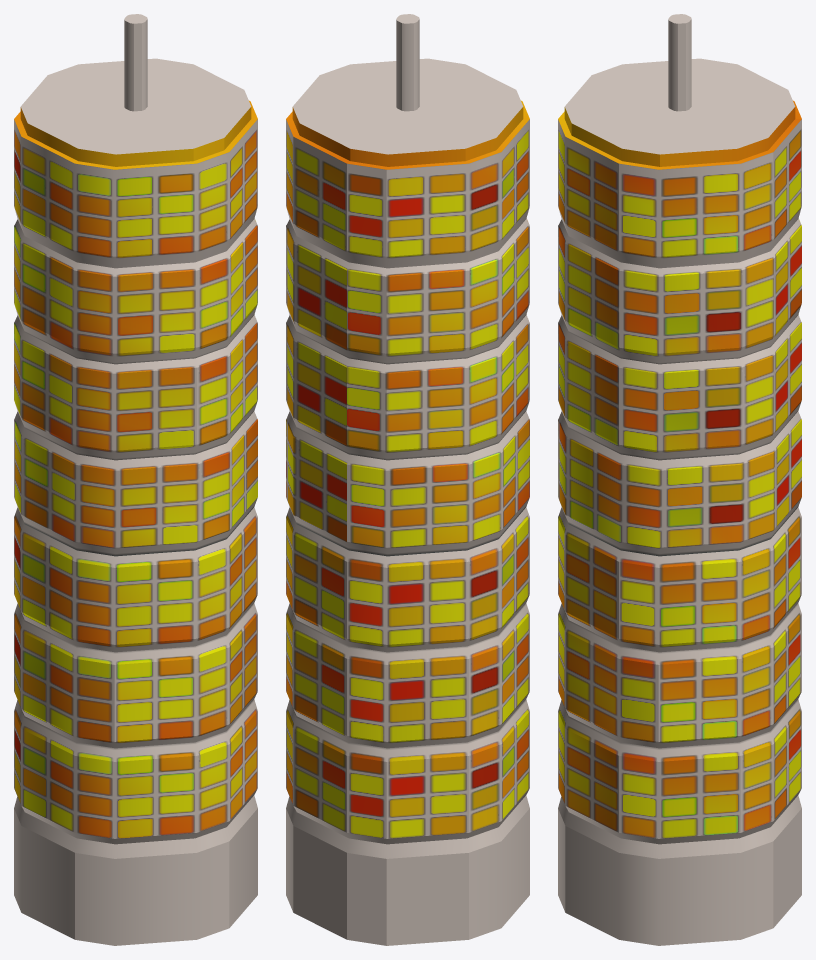
Rendered from Large_B_3.fbx.
The picture shows the model from 3 angles, left to right: view 1: azimuth 30°, elevation 25°; view 2: azimuth 150°, elevation 25°; view 3: azimuth 270°, elevation 25°; orthographic projection.
Parts seen in each view (by area): view 1: Large_B_3; view 2: Large_B_3; view 3: Large_B_3.
Boxes of the visible parts, x1=… form: Large_B_3: x1=14, y1=14, x2=257, y2=945; Large_B_3: x1=286, y1=14, x2=529, y2=945; Large_B_3: x1=558, y1=14, x2=801, y2=945.
Bounding box in the file's own units: 4061 × 16348 × 4124.
